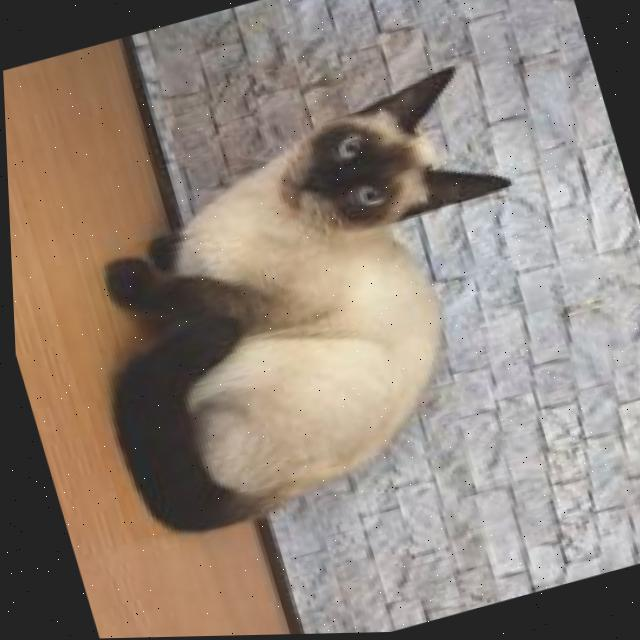Siamese: (26, 56, 590, 556)
